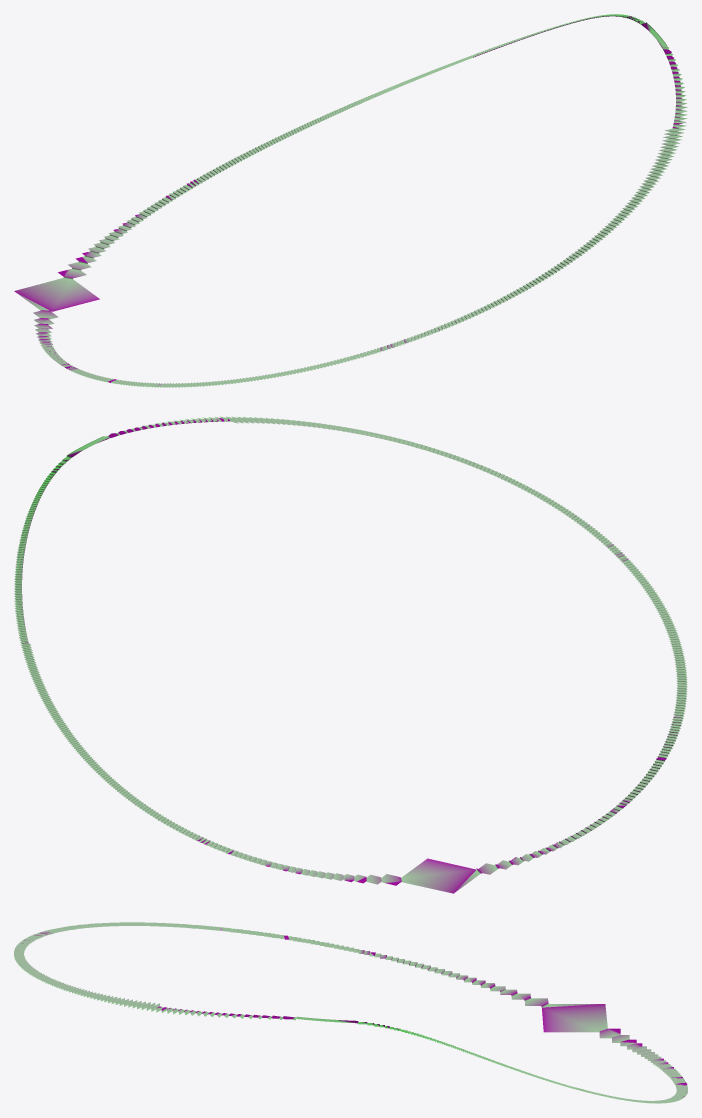
Rendered from solsticeStairs.glb.
3 views of the same model, one above another, from view 1: azimuth 30°, elevation 25°; view 2: azimuth 150°, elevation 25°; view 3: azimuth 270°, elevation 25° (orthographic). The views are drawn at different scales.
Visible parts, largest first — view 1: solsticeStairs; view 2: solsticeStairs; view 3: solsticeStairs.
Part boxes in pixels (x1=…): solsticeStairs: x1=14, y1=14, x2=687, y2=387; solsticeStairs: x1=14, y1=416, x2=687, y2=893; solsticeStairs: x1=14, y1=922, x2=687, y2=1103.
Bounding box in the file's own units: 130 × 50.18 × 128.
